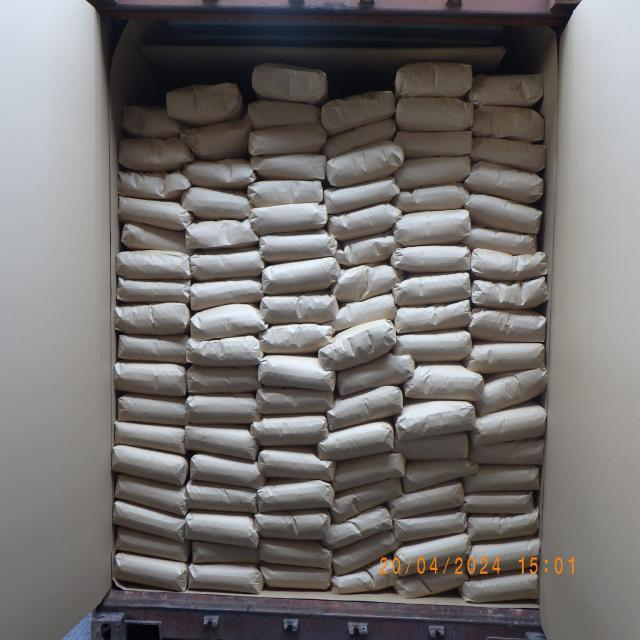gunny_bag: (466, 160, 548, 206), (334, 352, 414, 398), (322, 384, 404, 428), (318, 320, 394, 366), (469, 102, 551, 144), (116, 496, 187, 543), (473, 366, 552, 408), (466, 193, 546, 234), (112, 476, 186, 520), (331, 479, 405, 523), (325, 140, 402, 182), (261, 352, 337, 394), (116, 552, 188, 596), (397, 57, 472, 99), (406, 364, 487, 402), (252, 62, 330, 101), (397, 532, 471, 573), (468, 532, 543, 572), (396, 94, 474, 132), (471, 303, 548, 341), (329, 528, 396, 571), (258, 448, 340, 483), (389, 240, 472, 274), (168, 84, 242, 122), (320, 93, 394, 131), (324, 200, 400, 237), (398, 400, 472, 438), (397, 560, 469, 599), (180, 120, 250, 160), (113, 446, 186, 484), (118, 193, 188, 232), (327, 504, 395, 544), (473, 68, 544, 106), (114, 524, 188, 560), (393, 300, 471, 334), (394, 328, 472, 362), (186, 422, 255, 460), (190, 278, 262, 314), (112, 362, 186, 397), (259, 257, 337, 290), (245, 125, 328, 156), (121, 99, 179, 143), (323, 121, 398, 155), (188, 450, 262, 484), (321, 420, 394, 454), (400, 456, 477, 488), (116, 138, 192, 170), (473, 276, 549, 308), (116, 304, 187, 338), (394, 511, 467, 544), (331, 292, 396, 329), (177, 218, 257, 248), (258, 230, 338, 260), (396, 208, 471, 240), (396, 272, 471, 304), (334, 556, 400, 592), (394, 432, 470, 463), (251, 415, 329, 445), (192, 302, 265, 334), (466, 138, 546, 167), (116, 252, 193, 282), (334, 454, 406, 486), (112, 423, 186, 454), (261, 293, 337, 323), (258, 482, 334, 512), (188, 336, 261, 367), (324, 173, 397, 204), (188, 566, 263, 596), (244, 100, 320, 129), (187, 366, 260, 396), (251, 179, 326, 208), (394, 156, 469, 185), (180, 186, 250, 217), (186, 512, 258, 542), (188, 539, 260, 569), (473, 407, 550, 435), (468, 571, 539, 601), (182, 158, 250, 189), (118, 169, 196, 196), (394, 182, 472, 209), (396, 130, 471, 158), (393, 484, 467, 512), (121, 224, 192, 253), (261, 541, 337, 568), (115, 335, 188, 363), (183, 486, 256, 514), (190, 393, 258, 423), (114, 276, 192, 302), (474, 438, 546, 466), (472, 252, 554, 276), (117, 396, 187, 424), (336, 233, 399, 264), (472, 342, 547, 368), (258, 512, 331, 538), (335, 264, 398, 294), (263, 322, 332, 349), (188, 253, 262, 278), (251, 206, 328, 230), (252, 154, 326, 178), (466, 512, 540, 536), (470, 464, 540, 488), (262, 568, 334, 591), (470, 227, 545, 249), (467, 490, 535, 514), (254, 392, 334, 412)
